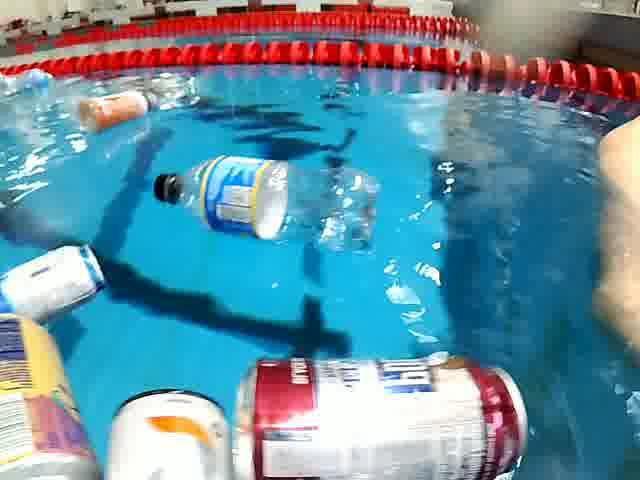Bottle: (155, 138, 380, 258), (64, 84, 172, 124), (0, 64, 60, 100)
Can: (232, 336, 541, 470), (0, 313, 102, 480), (103, 380, 232, 480), (0, 227, 115, 324)
